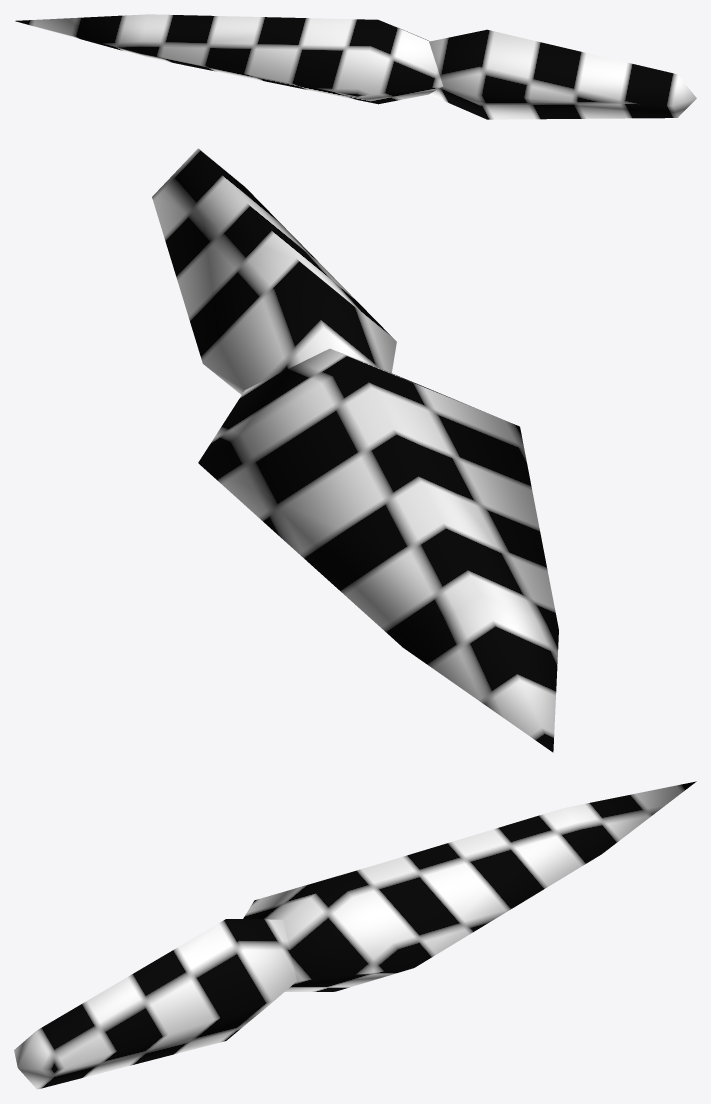
Rendered from initwedg3.dae.
The picture shows the model from 3 angles, top to bottom: view 1: azimuth 30°, elevation 25°; view 2: azimuth 150°, elevation 25°; view 3: azimuth 270°, elevation 25°; orthographic projection. The views are drawn at different scales.
Parts seen in each view (by area): view 1: weapon; view 2: weapon; view 3: weapon.
Part boxes in pixels (x1,y1,x2,y2): weapon: (15, 14, 696, 119); weapon: (152, 148, 558, 752); weapon: (14, 781, 696, 1089).
Bounding box in the file's own units: 1.44 × 1.44 × 0.2844.
Materials: 1 (1 with a texture image).
